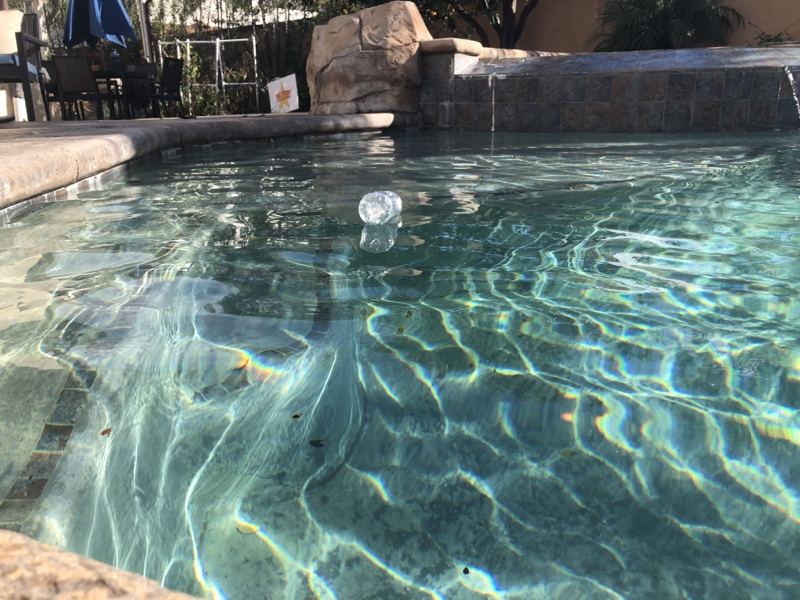Plastic Bottle: (356, 187, 404, 225)
